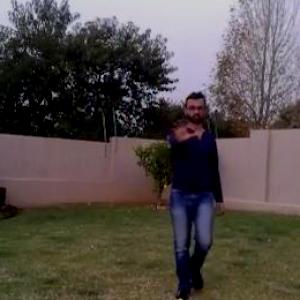follow_hand: (168, 112, 198, 143)
